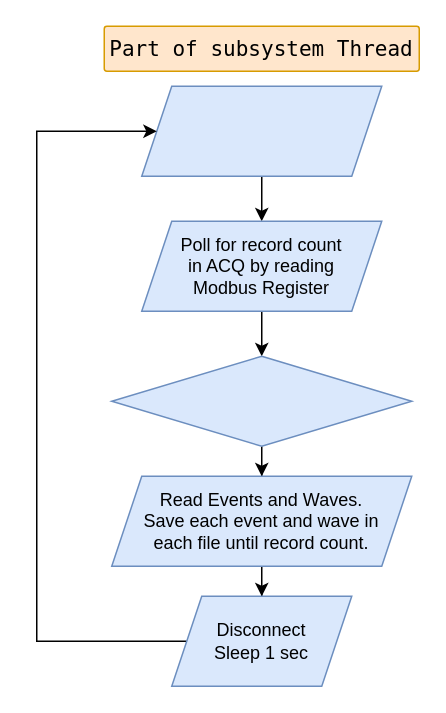
The diagram is 446 pixels wide and 713 high, and some of its shapes have lost their labels. Each missing label, with the box of its shape:
Connect with ACQ Through ModbusTCP: (140, 85, 382, 176)
Data record exist ?: (110, 355, 412, 446)
